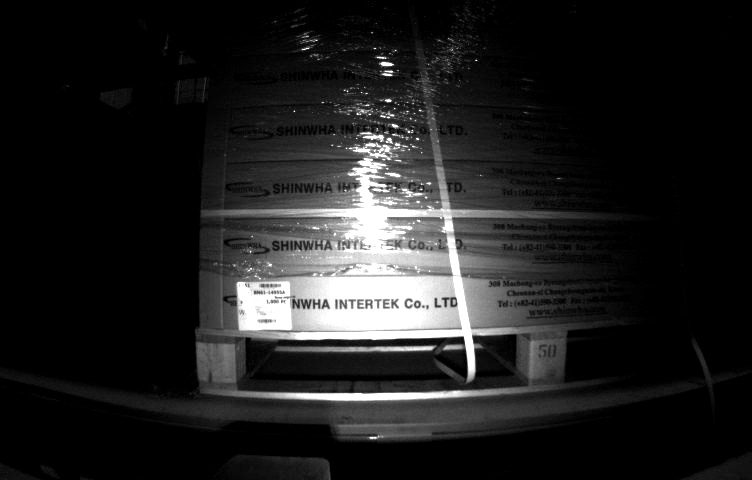True Barcode: (236, 280, 292, 332)
